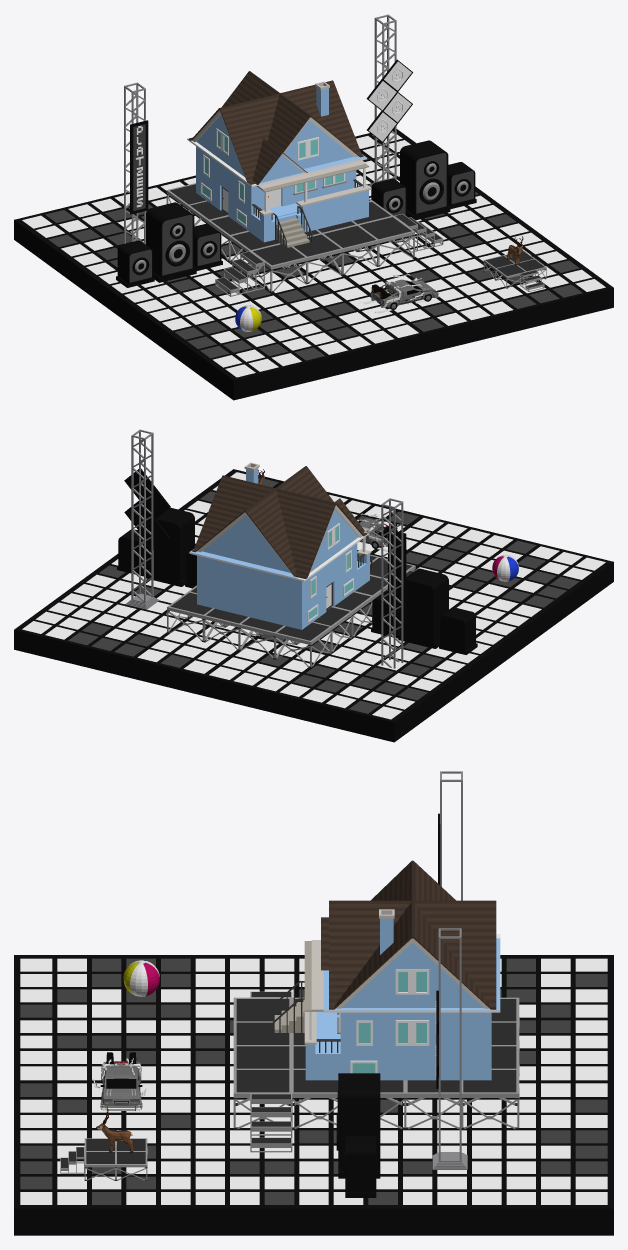
3 views of the same model, one above another, from view 1: azimuth 30°, elevation 25°; view 2: azimuth 150°, elevation 25°; view 3: azimuth 270°, elevation 25° (orthographic). The views are drawn at different scales.
Parts seen in each view (by area): view 1: Cube.008, Cube.1594, VEHICLES_DELOREAN, OBJRANDOM_BEACHBALL; view 2: Cube.008, Cube.1594, VEHICLES_DELOREAN, OBJRANDOM_BEACHBALL; view 3: Cube.008, Cube.1594, VEHICLES_DELOREAN, OBJRANDOM_BEACHBALL.
Boxes of the visible parts, x1,y1,x2,y2 form: Cube.008: (14, 14, 613, 400); Cube.1594: (187, 71, 371, 248); VEHICLES_DELOREAN: (358, 274, 438, 313); OBJRANDOM_BEACHBALL: (235, 305, 261, 331); Cube.008: (14, 429, 613, 742); Cube.1594: (189, 462, 372, 629); VEHICLES_DELOREAN: (357, 513, 408, 551); OBJRANDOM_BEACHBALL: (492, 554, 518, 581); Cube.008: (14, 771, 613, 1235); Cube.1594: (272, 860, 500, 1080); VEHICLES_DELOREAN: (92, 1052, 146, 1110); OBJRANDOM_BEACHBALL: (123, 960, 159, 996).
Bounding box in the file's own units: 4000 × 1922 × 4000.
Materials: 42 (2 with a texture image).
